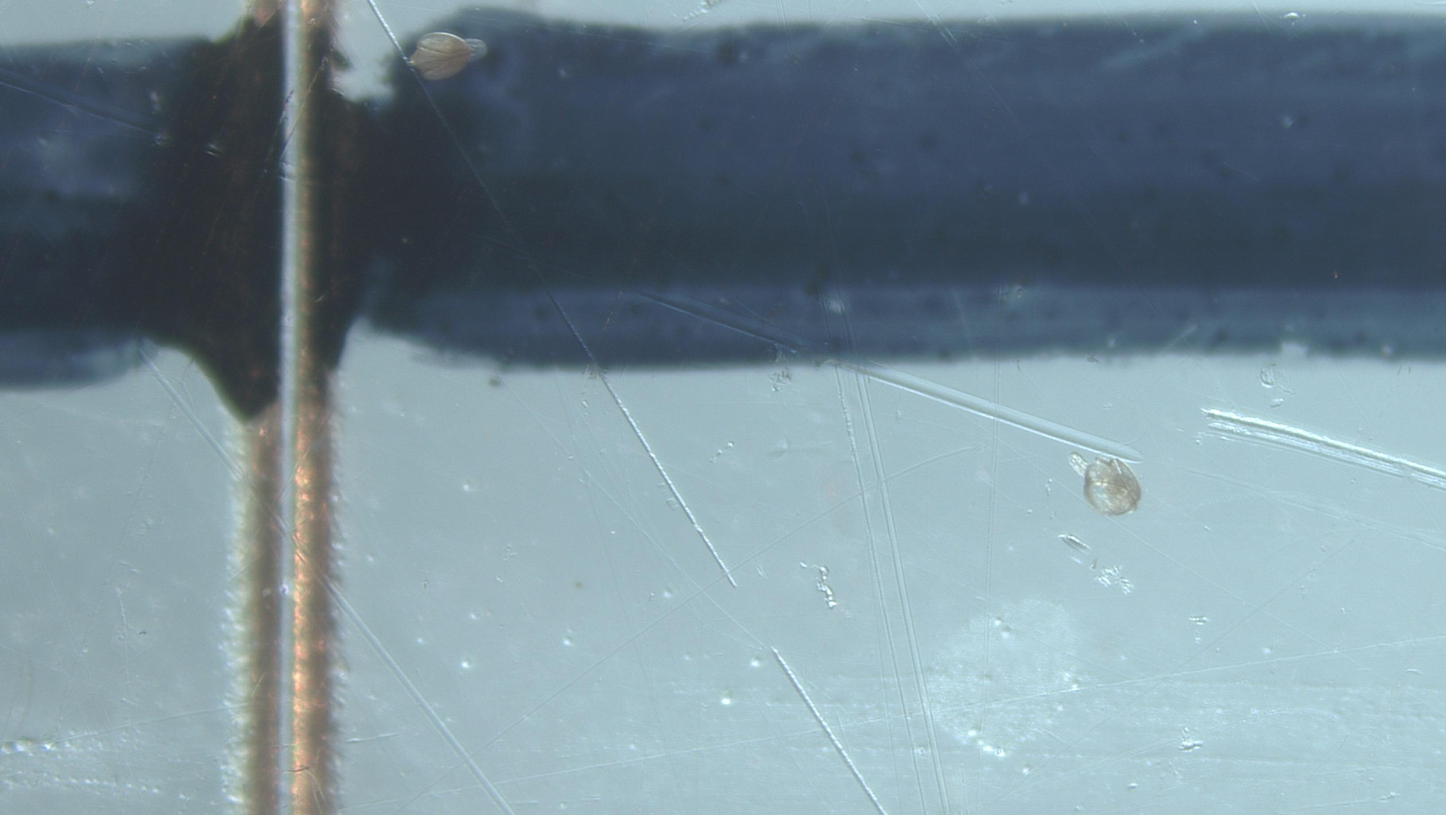live: (404, 33, 488, 81), (1084, 459, 1142, 516)
